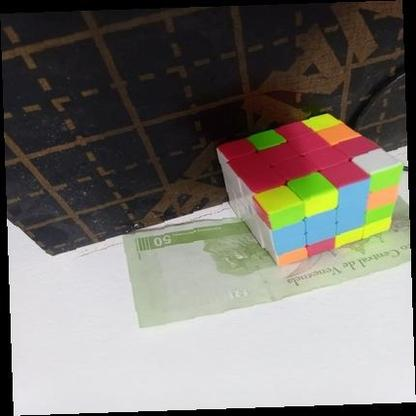vef_back: (121, 192, 410, 328)
